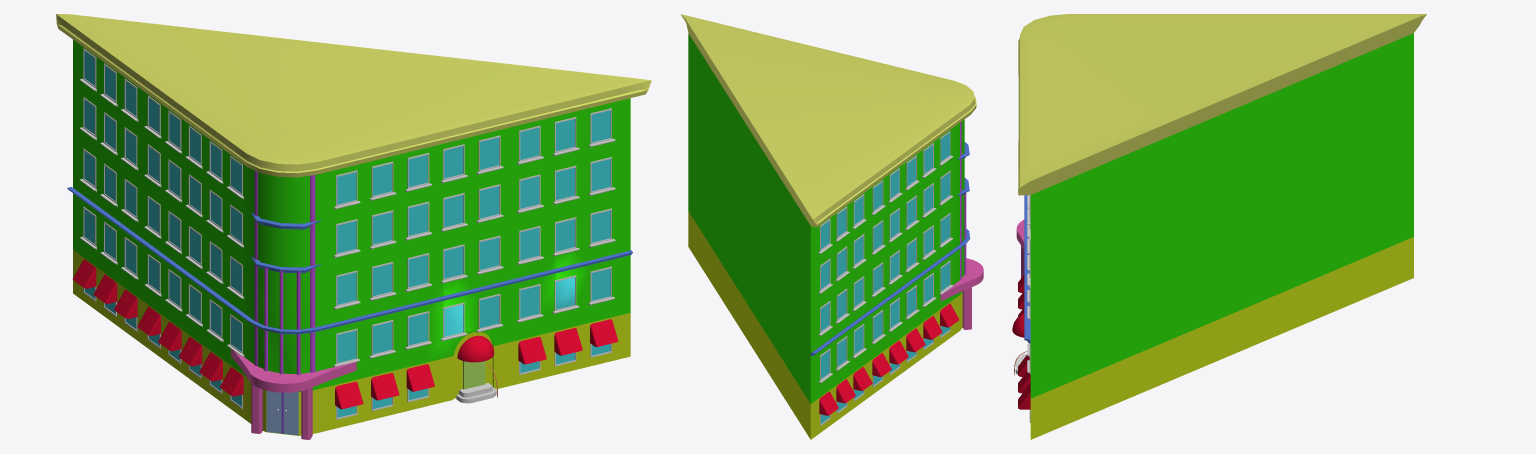
Rendered from zaobleny_dum.fbx.
3 views of the same model, side by side, from view 1: azimuth 30°, elevation 25°; view 2: azimuth 150°, elevation 25°; view 3: azimuth 270°, elevation 25° (orthographic). The views are drawn at different scales.
Visible parts, largest first — view 1: Cube; view 2: Cube; view 3: Cube.
Boxes of the visible parts, x1,y1,x2,y2 form: Cube: [56, 14, 651, 439]; Cube: [680, 14, 983, 439]; Cube: [1012, 14, 1426, 439].
Bounding box in the file's own units: 2070 × 1437 × 2546.
